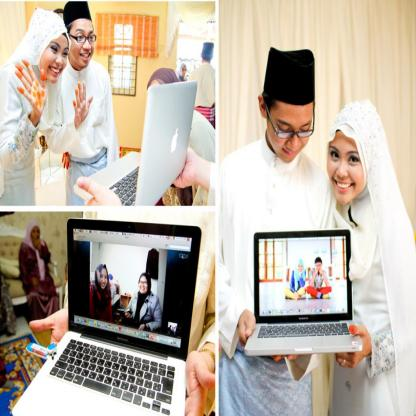board: (12, 218, 201, 416), (74, 82, 197, 206), (246, 229, 362, 355)
